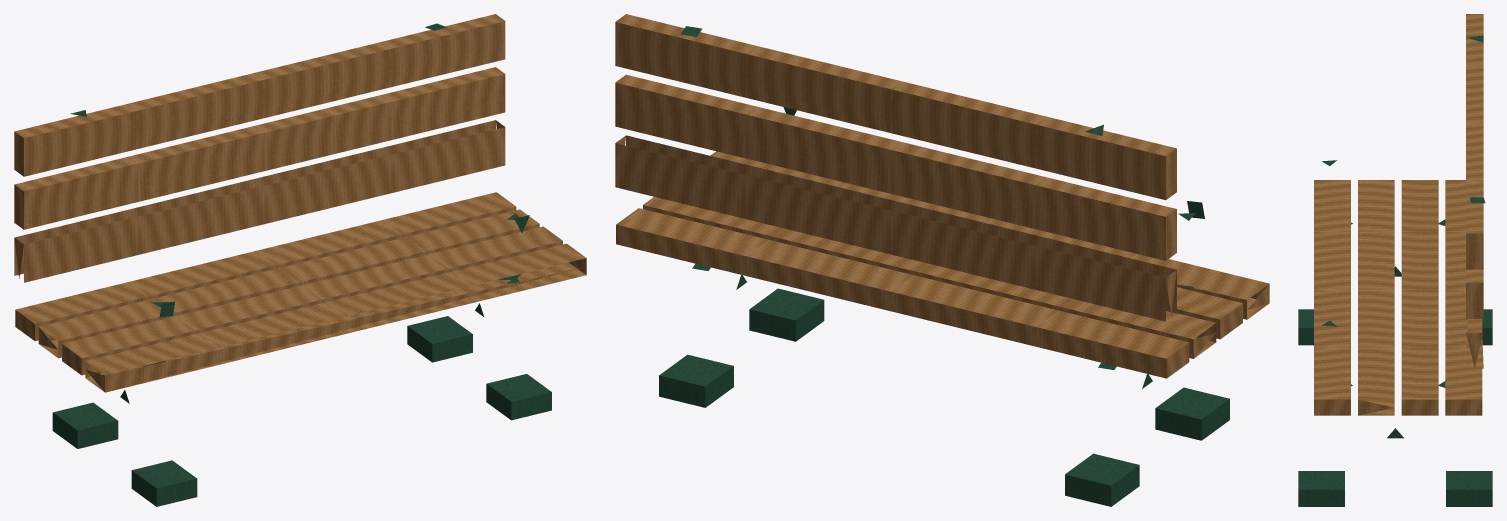
3 renders of one model, left to right at view 1: azimuth 30°, elevation 25°; view 2: azimuth 150°, elevation 25°; view 3: azimuth 270°, elevation 25°, orthographic. The views are drawn at different scales.
Parts seen in each view (by area): view 1: bench; view 2: bench; view 3: bench.
Part boxes in pixels (x1=…): bench: x1=14, y1=14, x2=586, y2=506; bench: x1=615, y1=14, x2=1269, y2=506; bench: x1=1298, y1=14, x2=1492, y2=506.
Bounding box in the file's own units: 1.9 × 1.2 × 0.71.
Materials: 2 (2 with a texture image).
